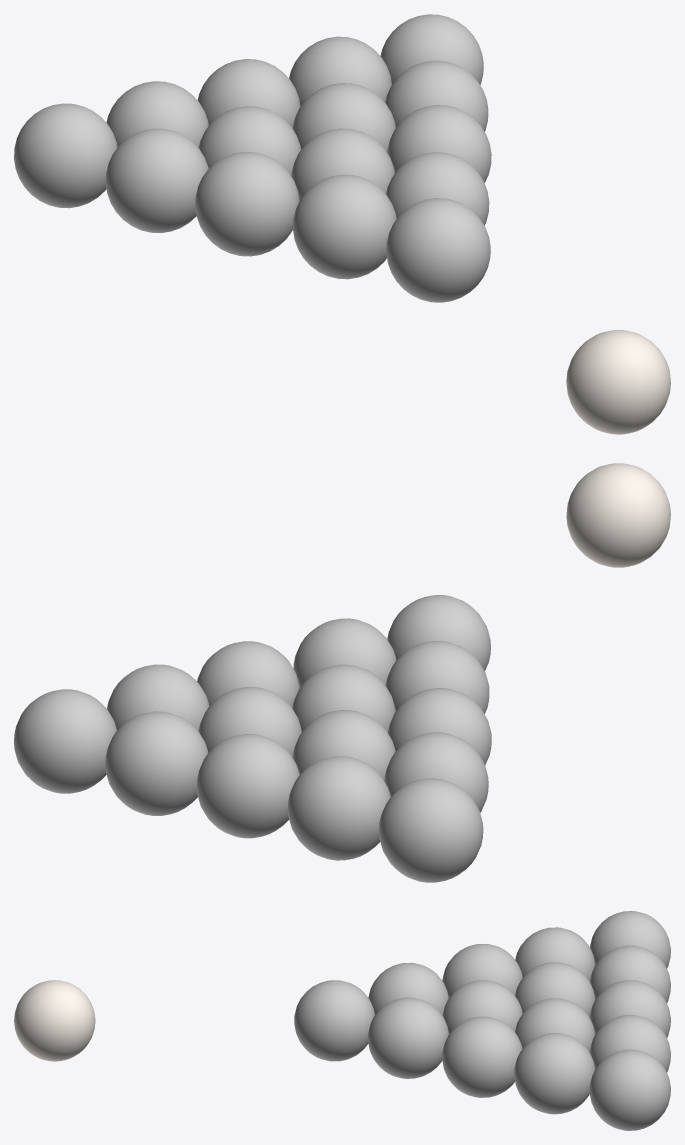
Rendered from old_balls.obj.
The picture shows the model from 3 angles, top to bottom: view 1: azimuth 30°, elevation 25°; view 2: azimuth 150°, elevation 25°; view 3: azimuth 270°, elevation 25°; orthographic projection. The views are drawn at different scales.
Parts seen in each view (by area): view 1: Cue_Ball_Clube_-_Default_0, Ball1_01_-_Default_0, Ball5_08_-_Default_0, Ball3_03_-_Default_0, Ball15_06_-_Default_0, Ball10_19_-_Default_0, Ball4_07_-_Default_0, Ball11_20_-_Default_0, Ball2_02_-_Default_0, Ball8_14_-_Default_0, Ball13_04_-_Default_0, Ball12_21_-_Default_0 (+4 smaller); view 2: Cue_Ball_Clube_-_Default_0, Ball15_06_-_Default_0, Ball11_20_-_Default_0, Ball12_21_-_Default_0, Ball13_04_-_Default_0, Ball14_05_-_Default_0, Ball10_19_-_Default_0, Ball3_03_-_Default_0, Ball1_01_-_Default_0, Ball7_13_-_Default_0, Ball5_08_-_Default_0, Ball2_02_-_Default_0 (+4 smaller); view 3: Cue_Ball_Clube_-_Default_0, Ball11_20_-_Default_0, Ball6_09_-_Default_0, Ball2_02_-_Default_0, Ball1_01_-_Default_0, Ball4_07_-_Default_0, Ball13_04_-_Default_0, Ball12_21_-_Default_0, Ball5_08_-_Default_0, Ball14_05_-_Default_0, Ball15_06_-_Default_0, Ball8_14_-_Default_0 (+4 smaller).
Boxes of the visible parts, x1,y1,x2,y2 form: Cue_Ball_Clube_-_Default_0: (566,330,670,434); Ball1_01_-_Default_0: (386,198,490,302); Ball5_08_-_Default_0: (195,152,299,256); Ball3_03_-_Default_0: (293,174,396,279); Ball15_06_-_Default_0: (14,103,117,208); Ball10_19_-_Default_0: (105,128,208,233); Ball4_07_-_Default_0: (387,105,491,182); Ball11_20_-_Default_0: (380,14,483,84); Ball2_02_-_Default_0: (386,152,489,225); Ball8_14_-_Default_0: (291,128,394,200); Ball13_04_-_Default_0: (197,59,300,128); Ball12_21_-_Default_0: (289,36,391,106); Cue_Ball_Clube_-_Default_0: (566,463,670,567); Ball15_06_-_Default_0: (379,778,483,882); Ball11_20_-_Default_0: (14,689,116,793); Ball12_21_-_Default_0: (105,711,208,815); Ball13_04_-_Default_0: (196,734,299,838); Ball14_05_-_Default_0: (288,756,390,860); Ball10_19_-_Default_0: (384,732,488,812); Ball3_03_-_Default_0: (385,641,489,713); Ball1_01_-_Default_0: (387,595,490,670); Ball7_13_-_Default_0: (198,687,301,757); Ball5_08_-_Default_0: (388,688,491,765); Ball2_02_-_Default_0: (293,618,396,687); Cue_Ball_Clube_-_Default_0: (14,980,95,1061); Ball11_20_-_Default_0: (589,1049,670,1130); Ball6_09_-_Default_0: (514,1033,595,1114); Ball2_02_-_Default_0: (368,997,448,1078); Ball1_01_-_Default_0: (294,980,374,1061); Ball4_07_-_Default_0: (442,1016,522,1097); Ball13_04_-_Default_0: (589,980,670,1037); Ball12_21_-_Default_0: (589,1015,670,1072); Ball5_08_-_Default_0: (442,943,522,998); Ball14_05_-_Default_0: (590,945,670,1002); Ball15_06_-_Default_0: (590,911,670,968); Ball8_14_-_Default_0: (442,980,522,1034).
Bounding box in the file's own units: 0.2623 × 0.0522 × 0.4207.
